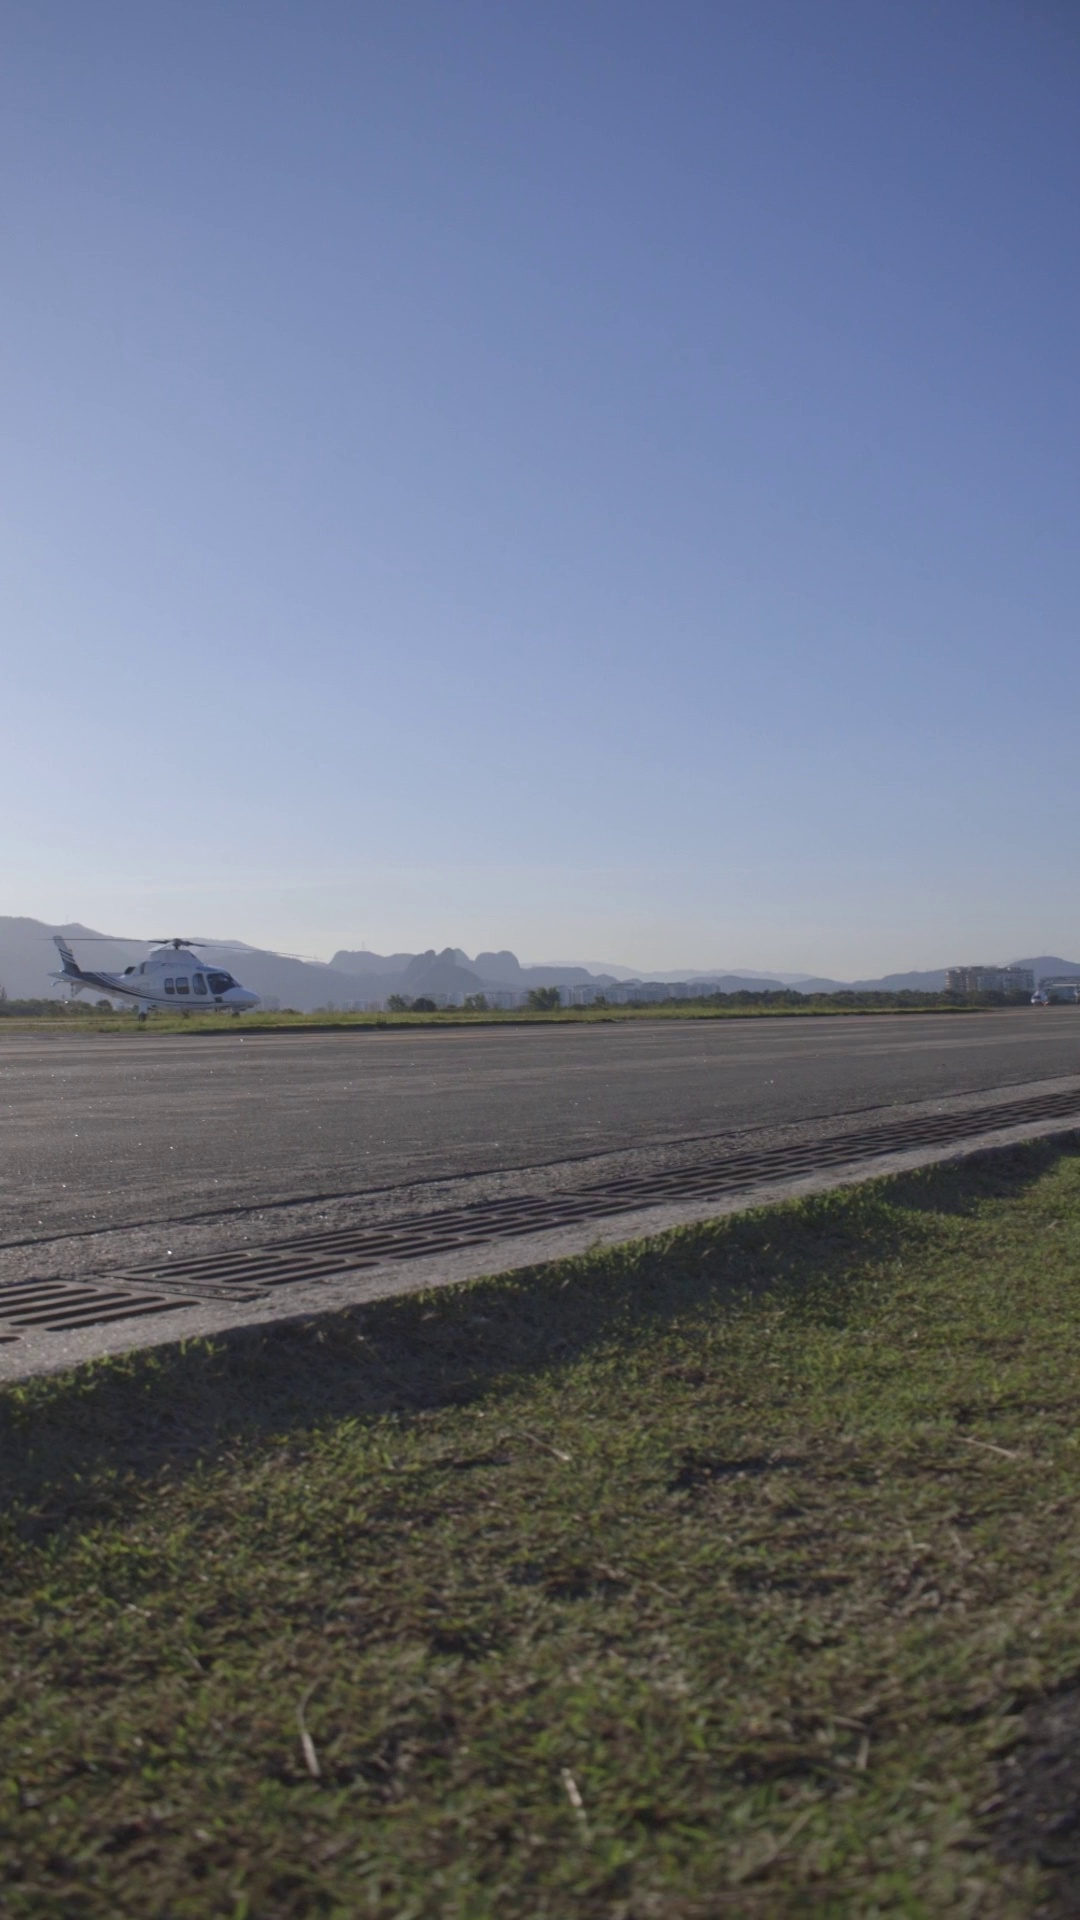heli: (44, 928, 262, 1021)
